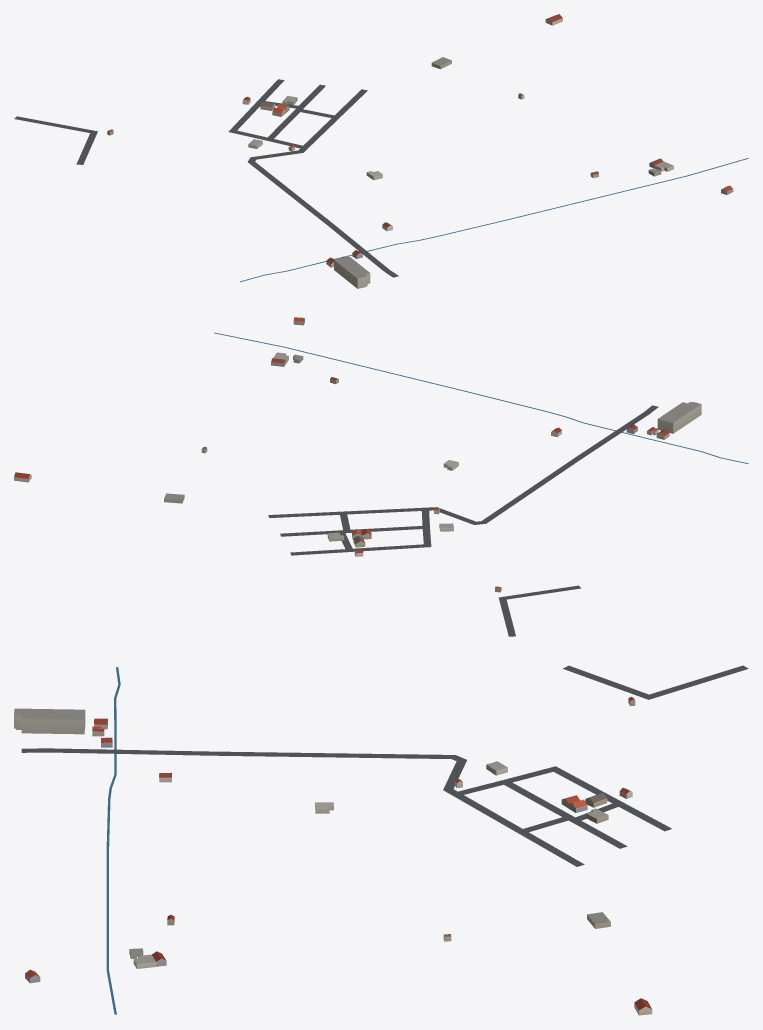
The picture shows the model from 3 angles, top to bottom: view 1: azimuth 30°, elevation 25°; view 2: azimuth 150°, elevation 25°; view 3: azimuth 270°, elevation 25°; orthographic projection. The views are drawn at different scales.
Visible parts, largest first — view 1: roads, buildings_walls, buildings_roofs, water; view 2: roads, buildings_walls, buildings_roofs, water; view 3: roads, buildings_walls, buildings_roofs, water.
Part boxes in pixels (x1,y1,x2,y2): roads: (14, 79, 398, 277); buildings_walls: (107, 18, 733, 288); buildings_roofs: (108, 14, 732, 278); water: (240, 158, 748, 282); roads: (268, 405, 658, 636); buildings_walls: (14, 318, 701, 592); buildings_roofs: (14, 317, 700, 588); water: (214, 332, 748, 463); roads: (21, 665, 748, 866); buildings_walls: (14, 698, 652, 1015); buildings_roofs: (14, 697, 651, 1010); water: (106, 667, 120, 1014).
Size of the model in its own units: 503 by 9.62 by 447.
